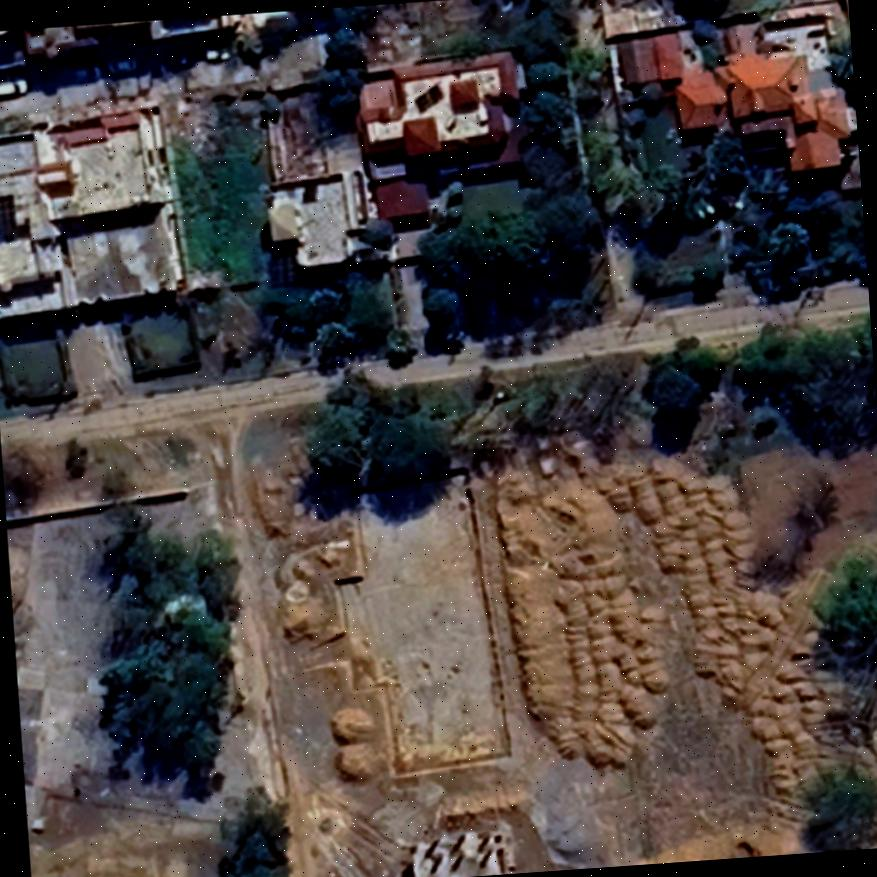Solarpanel: (262, 248, 302, 293), (410, 82, 445, 116), (0, 189, 21, 244)
